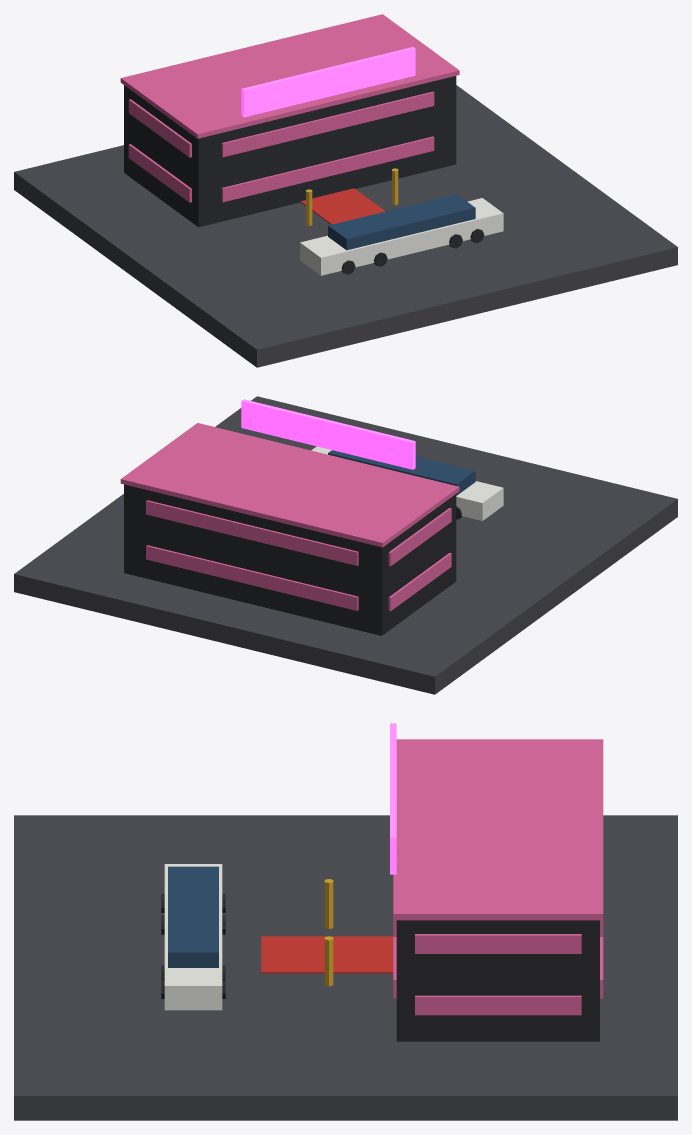
The model's file is zagul.glb.
3 views of the same model, one above another, from view 1: azimuth 30°, elevation 25°; view 2: azimuth 150°, elevation 25°; view 3: azimuth 270°, elevation 25° (orthographic). The views are drawn at different scales.
Parts seen in each view (by area): view 1: zagul; view 2: zagul; view 3: zagul.
Part boxes in pixels (x1,y1,x2,y2): zagul: (14,14,677,367); zagul: (14,396,677,694); zagul: (14,723,677,1120).
Bounding box in the file's own units: 1.96 × 0.65 × 1.96.
